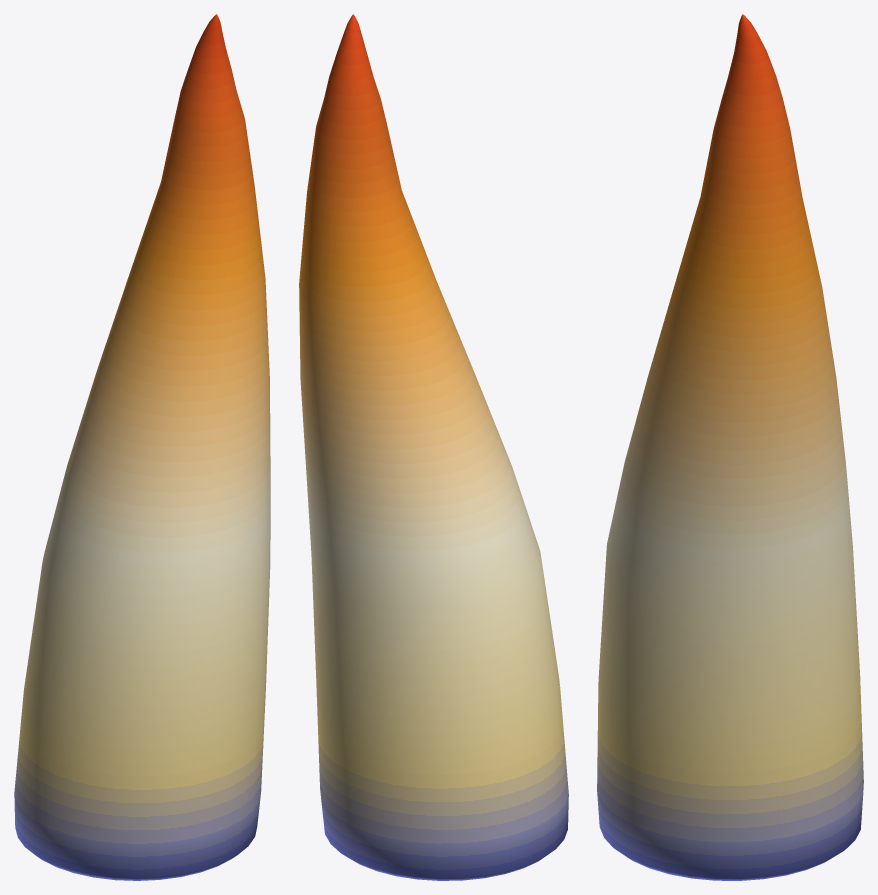
File: candle_flame.obj
3 renders of one model, left to right at view 1: azimuth 30°, elevation 25°; view 2: azimuth 150°, elevation 25°; view 3: azimuth 270°, elevation 25°, orthographic. The views are drawn at different scales.
Bounding box in the file's own units: 0.1925 × 0.6262 × 0.176.
Materials: 1 (1 with a texture image).
